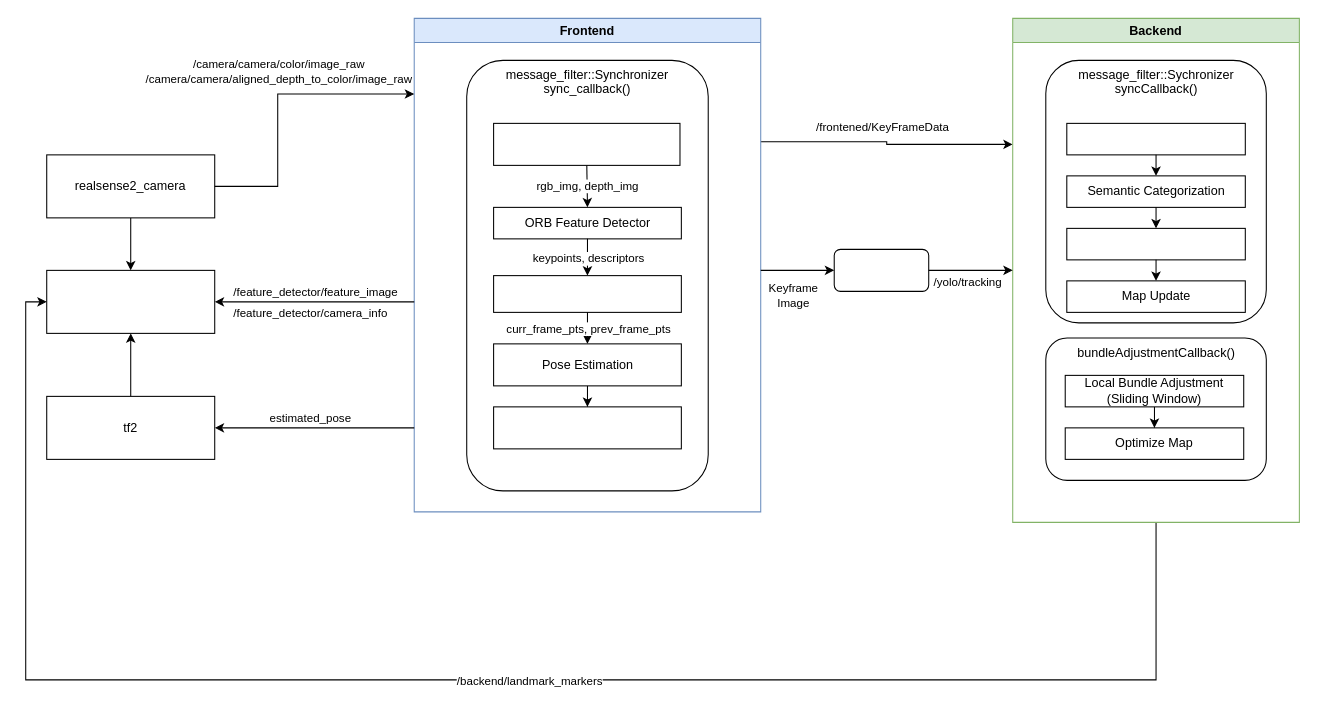
This 1318x707 diagram has some shape labels left out. Here are the shapes that lost their labels. From the top down, the centre of each, then its label:
At pixel 586 143: "Image Processor ROS msg -> cv::Mat".
At pixel 1155 138: "Data Association".
At pixel 1155 243: "Landmark Pruning".
At pixel 881 269: "YOLOv8 Node".
At pixel 130 301: "rviz".
At pixel 587 293: "BFMatcher(Hamming)".
At pixel 587 427: "Keyframe Selection".
